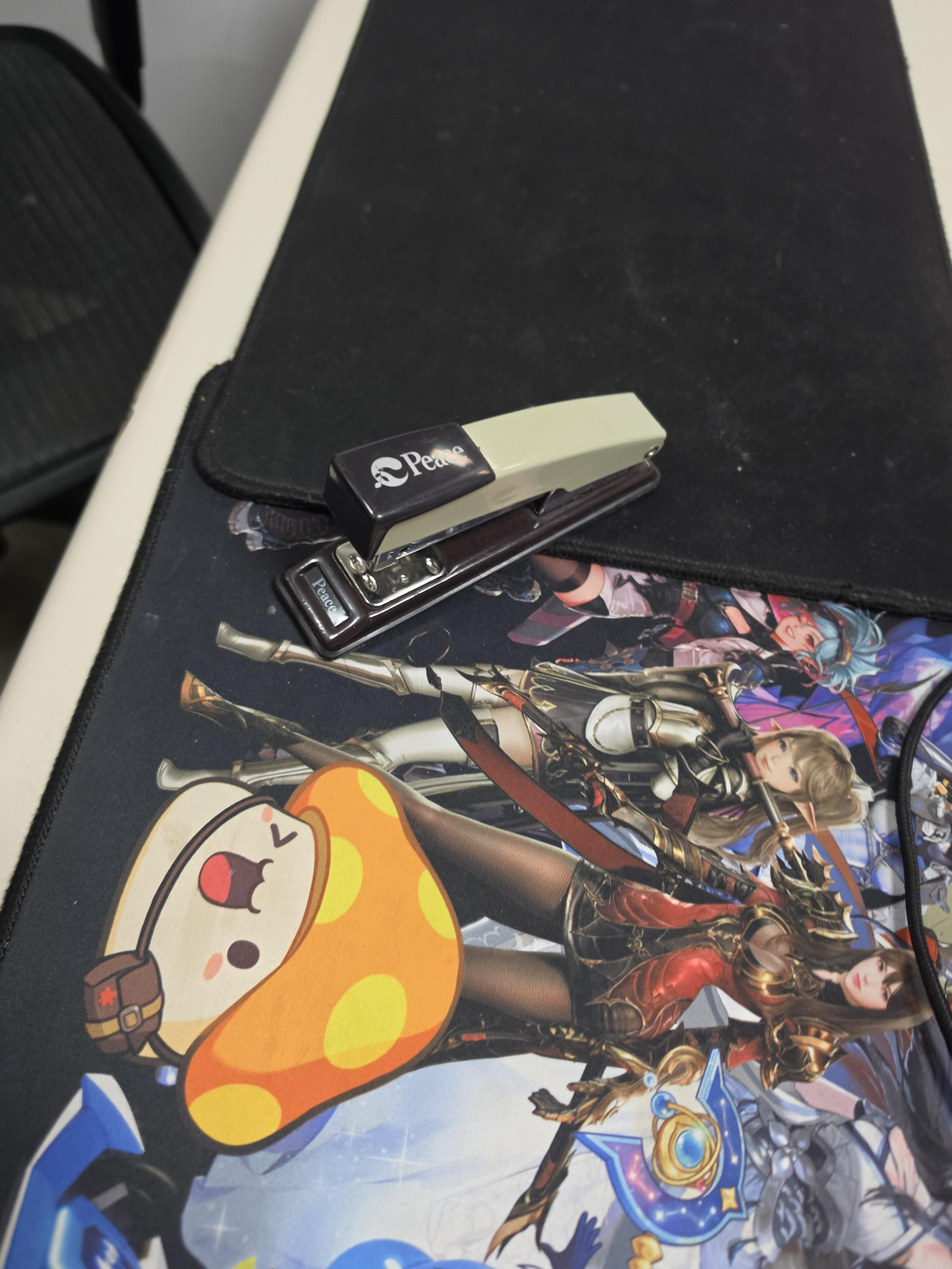stapler: (273, 391, 668, 659)
